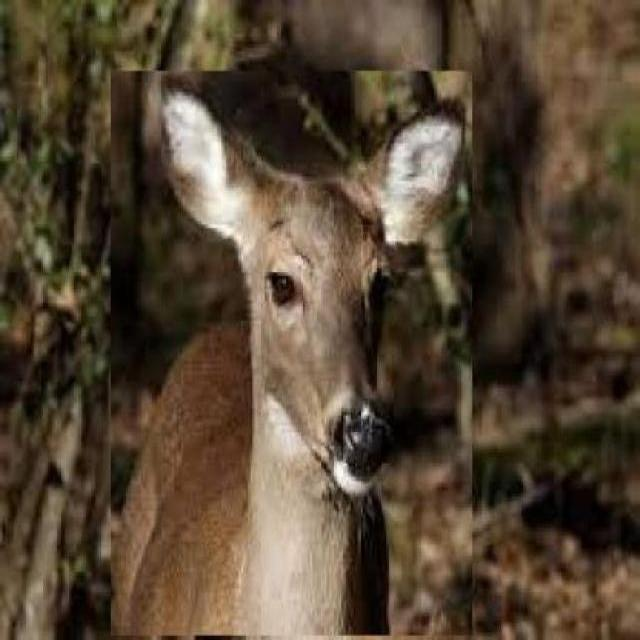deer: (111, 71, 474, 637)
